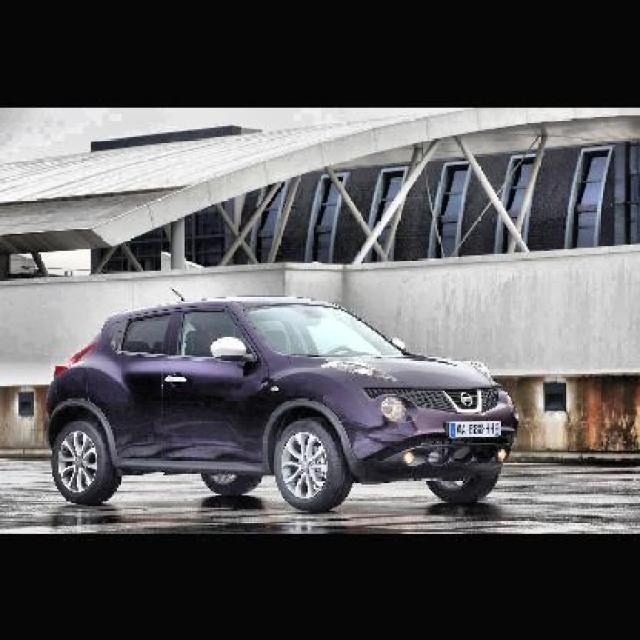blue: (46, 301, 517, 511)
